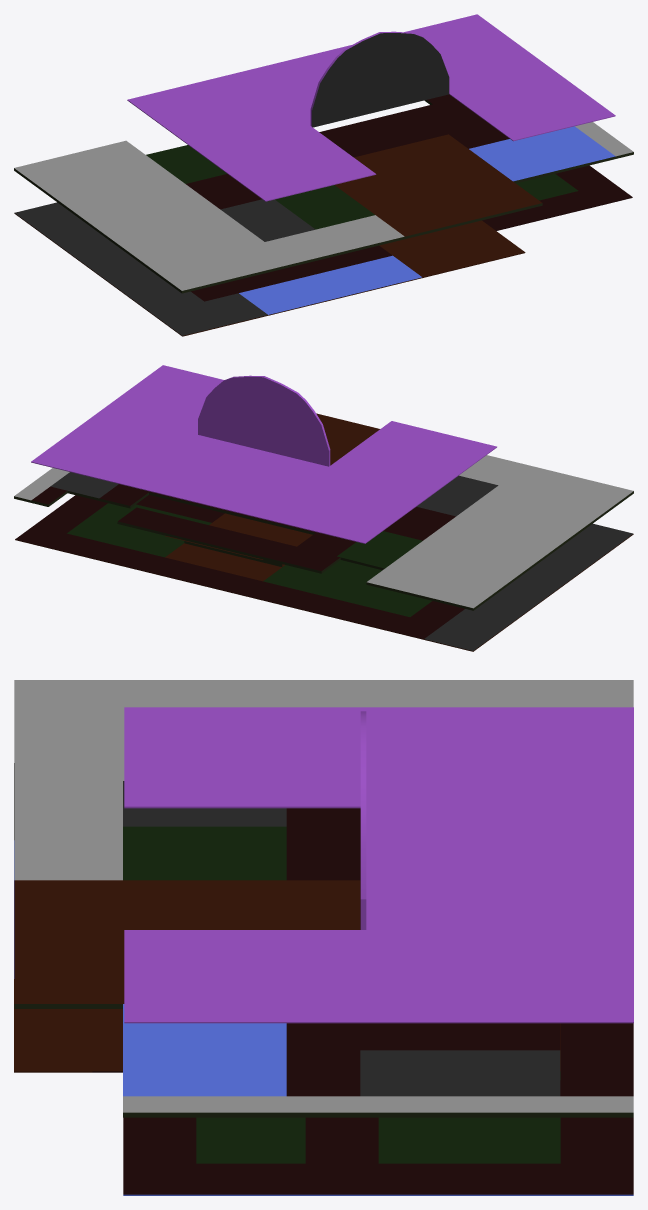
The model's file is Floor_roofs.fbx.
The picture shows the model from 3 angles, top to bottom: view 1: azimuth 30°, elevation 25°; view 2: azimuth 150°, elevation 25°; view 3: azimuth 270°, elevation 25°; orthographic projection. The views are drawn at different scales.
Parts seen in each view (by area): view 1: Floor2, Roof, Floor; view 2: Roof, Floor2, Floor; view 3: Roof, Floor2, Floor.
Boxes of the visible parts, left/top/right/bottom form: Floor2: left=14, top=94, right=633, bottom=293; Roof: left=127, top=14, right=615, bottom=201; Floor: left=14, top=165, right=632, bottom=336; Roof: left=31, top=365, right=496, bottom=543; Floor2: left=14, top=413, right=633, bottom=610; Floor: left=15, top=495, right=633, bottom=651; Roof: left=124, top=707, right=633, bottom=1023; Floor2: left=14, top=680, right=633, bottom=1117; Floor: left=14, top=763, right=633, bottom=1195.
Size of the model in its own units: 5619 by 1821 by 3402.
